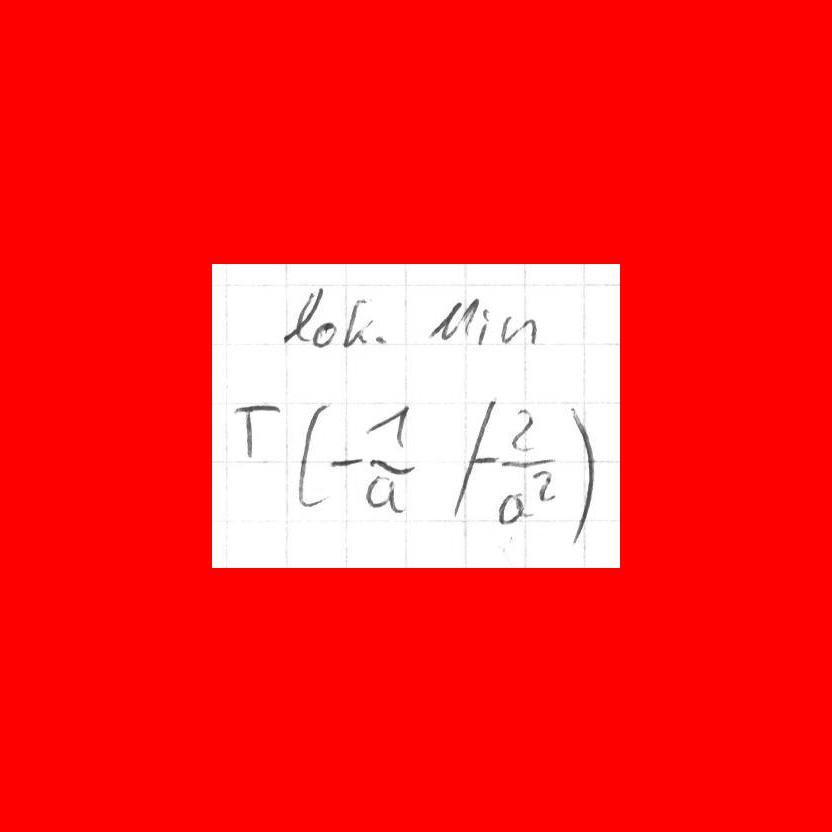Char: (449, 397, 496, 518), (293, 397, 330, 511), (227, 395, 288, 463), (283, 283, 325, 347), (428, 296, 479, 345), (362, 402, 414, 448), (359, 473, 406, 514), (340, 294, 373, 352), (498, 311, 541, 347), (508, 408, 538, 454), (495, 491, 531, 525), (529, 470, 563, 503), (367, 455, 423, 475), (499, 454, 560, 469), (474, 304, 492, 347), (311, 318, 336, 348), (330, 451, 363, 470), (470, 452, 499, 469), (372, 333, 389, 347)
